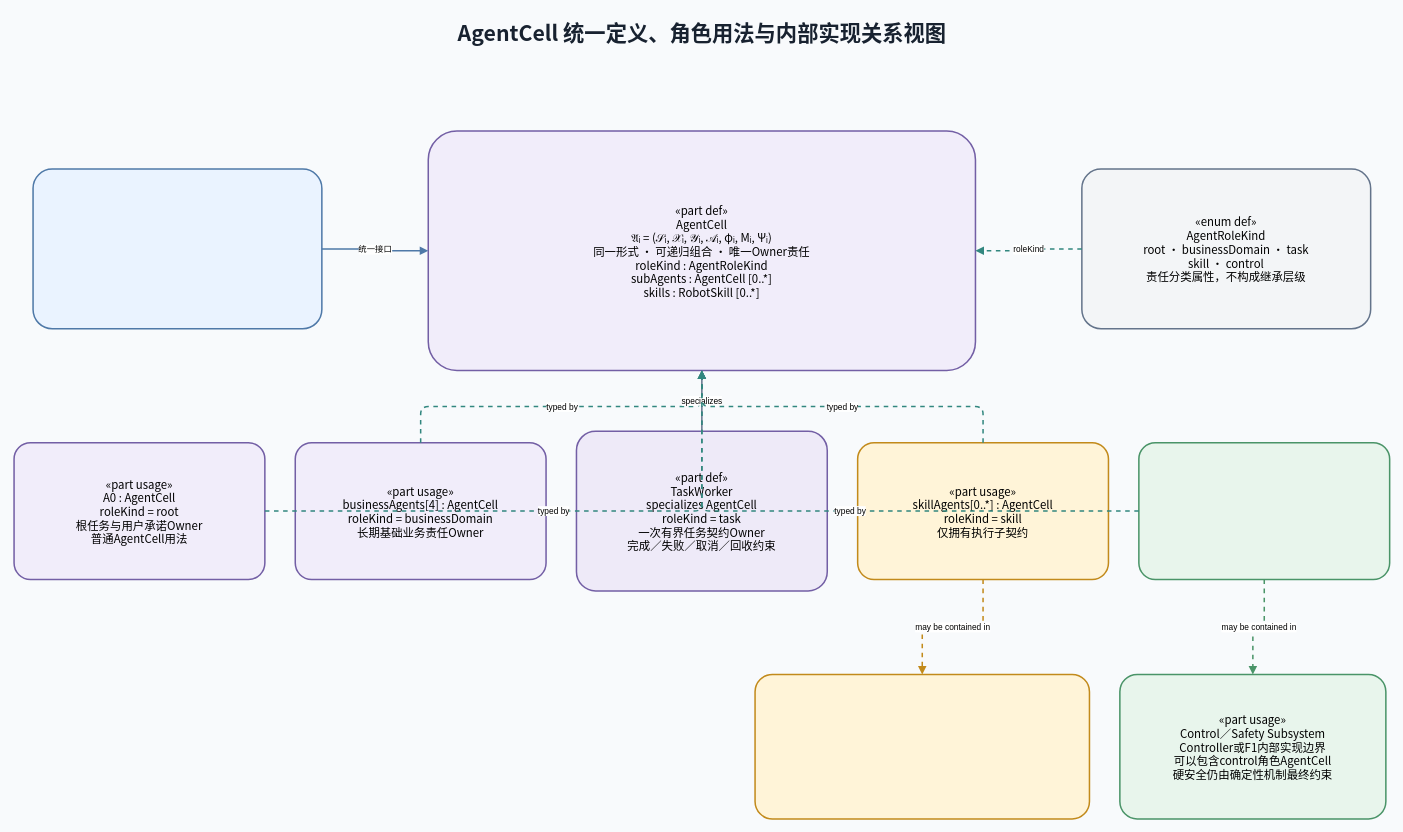
This 1403x832 diagram has some shape labels left out. Here are the shapes that lost their labels. From the top down, the box of each, then its label:
(32, 168, 322, 329): «port group» 统一递归接口 观察、共享引用与契约输入 结果、候选操作与Skill请求 反馈、干预与下级Agent关系
(1138, 442, 1390, 580): «part usage» controlAgents[0..*] : AgentCell roleKind = control 仅拥有控制或安全子契约
(754, 673, 1090, 819): «interface def» RobotSkill 能力接口，不限定实现 算法／模型／服务／状态机／AgentCell 内部Agent不能扩大调用者业务契约
